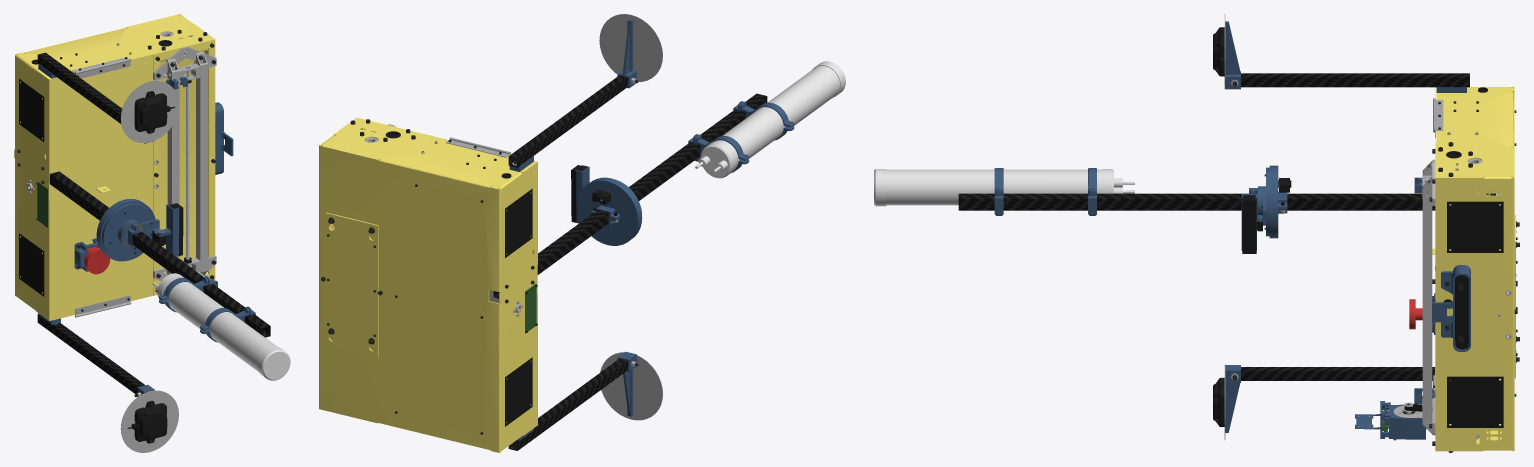
The model's file is rover_chassis.glb.
The picture shows the model from 3 angles, left to right: view 1: azimuth 30°, elevation 25°; view 2: azimuth 150°, elevation 25°; view 3: azimuth 270°, elevation 25°; orthographic projection. The views are drawn at different scales.
Visible parts, largest first — view 1: 111438_A;1; view 2: 111438_A;1; view 3: 111438_A;1.
Boxes of the visible parts, x1,y1,x2,y2 form: 111438_A;1: (14, 14, 290, 452); 111438_A;1: (319, 14, 845, 452); 111438_A;1: (874, 14, 1519, 452).
Size of the model in its own units: 61.53 by 97.51 by 136.
Materials: 12 (1 with a texture image).
